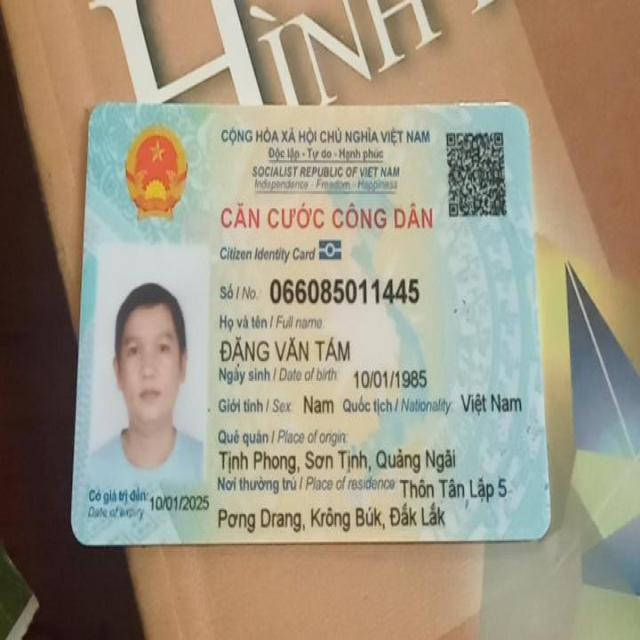bottom_left: (56, 517, 105, 558)
bottom_right: (526, 516, 562, 550)
image_person: (100, 244, 206, 484)
top_left: (78, 91, 112, 136)
top_right: (509, 91, 535, 131)
